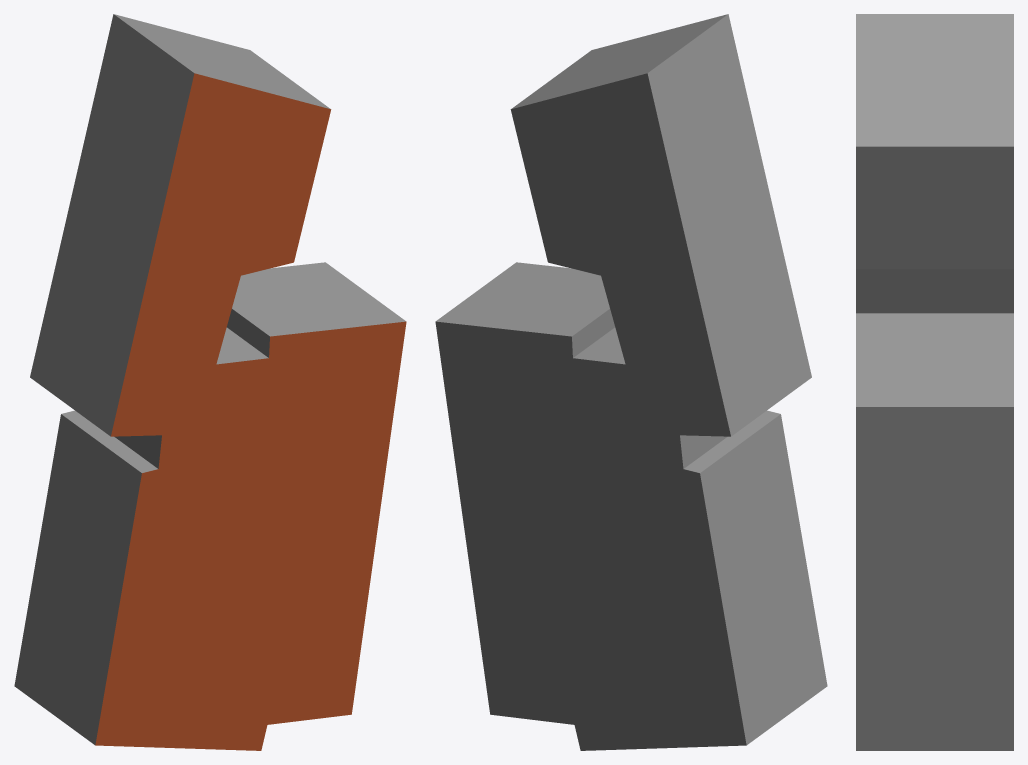
Rendered from construction_1511_assumed_A_Casa_h6m.obj.
The picture shows the model from 3 angles, left to right: view 1: azimuth 30°, elevation 25°; view 2: azimuth 150°, elevation 25°; view 3: azimuth 270°, elevation 25°; orthographic projection. The views are drawn at different scales.
Visible parts, largest first — view 1: construction_1511_assumed_A_Casa; view 2: construction_1511_assumed_A_Casa; view 3: construction_1511_assumed_A_Casa.
Boxes of the visible parts, bbox=[...] form: construction_1511_assumed_A_Casa: bbox=[14, 14, 406, 750]; construction_1511_assumed_A_Casa: bbox=[435, 14, 827, 750]; construction_1511_assumed_A_Casa: bbox=[856, 14, 1013, 750].
Bounding box in the file's own units: 13.32 × 28.38 × 6.
